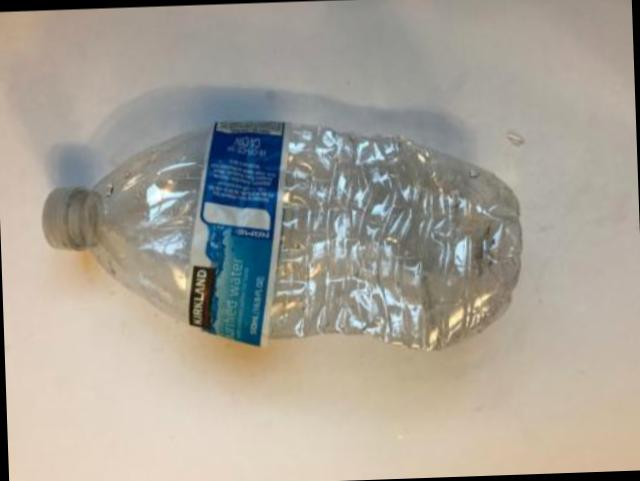plastic: (40, 119, 518, 346)
